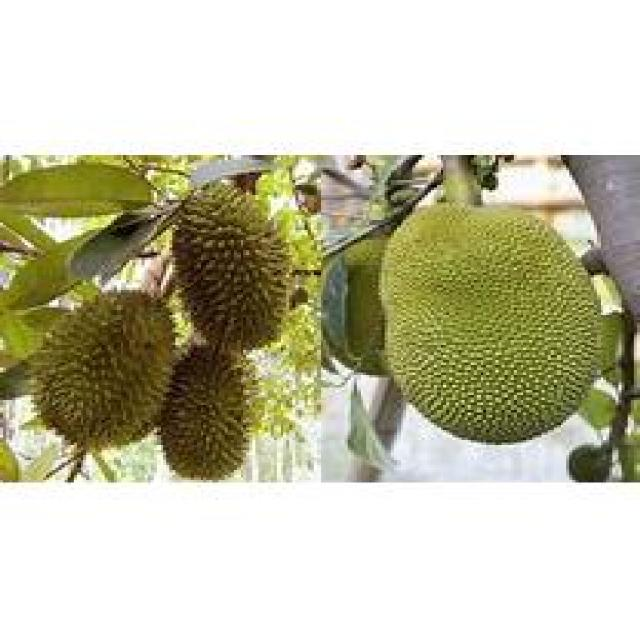Fruit: (376, 192, 616, 450), (3, 273, 194, 475)
